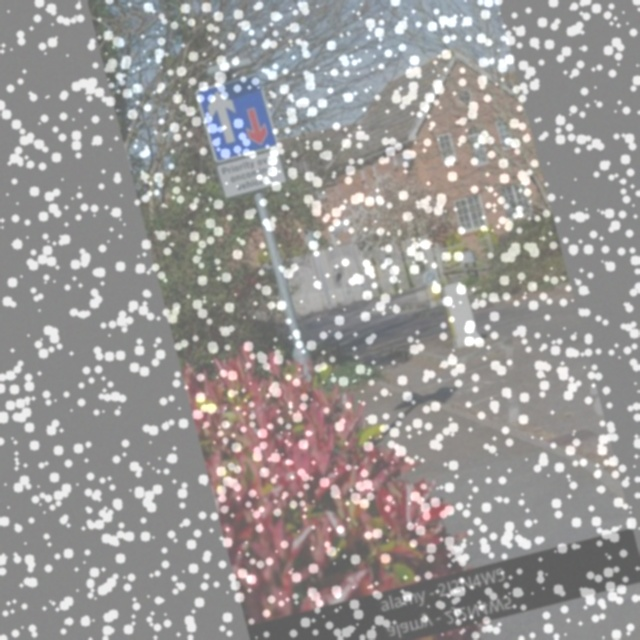Priority_for_Oncoming_Traffic: (195, 72, 279, 163)
